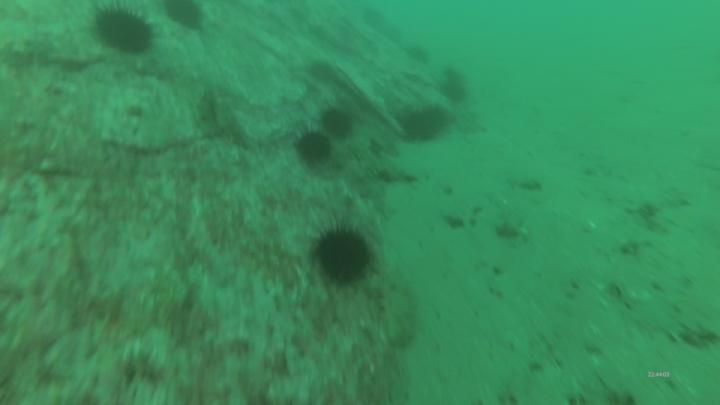echinus: (309, 223, 380, 292), (89, 2, 157, 62), (291, 128, 337, 169), (398, 107, 441, 149), (160, 1, 212, 34), (317, 104, 354, 142), (441, 73, 471, 104), (404, 42, 435, 68), (376, 22, 403, 46), (360, 7, 387, 30)
